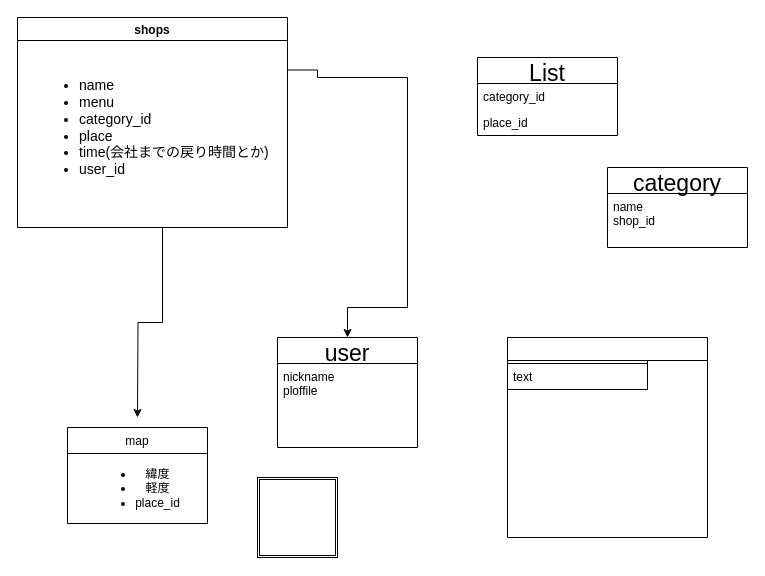
Image size: 765x576. Some labels were removed from this diagram. The shapes that lost their labels are listed below. From the top down, each one's centre as x and y in pixels, then its label:
At point (607, 437): "comennt".
At point (297, 517): "メインview map".
